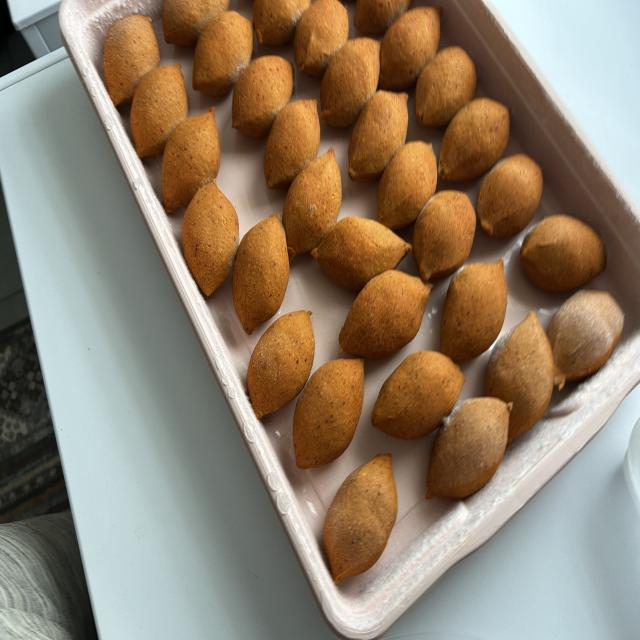kobi: (324, 454, 400, 587), (293, 357, 368, 472), (430, 406, 510, 508), (246, 307, 314, 423), (443, 252, 510, 362), (494, 317, 554, 437), (341, 273, 433, 351), (378, 357, 464, 437), (311, 220, 414, 285), (439, 96, 518, 179), (161, 104, 222, 210), (285, 146, 340, 262), (552, 298, 628, 380), (182, 187, 240, 294), (520, 218, 610, 286), (234, 212, 284, 332), (131, 60, 189, 159), (323, 37, 387, 123), (416, 49, 486, 125), (268, 95, 326, 186), (352, 94, 414, 178), (381, 5, 449, 80), (420, 185, 476, 276), (479, 158, 543, 236), (385, 138, 440, 225), (197, 12, 260, 86), (232, 59, 296, 131), (106, 14, 160, 96), (298, 0, 354, 69), (161, 0, 227, 44), (253, 0, 312, 46), (352, 0, 406, 33)
